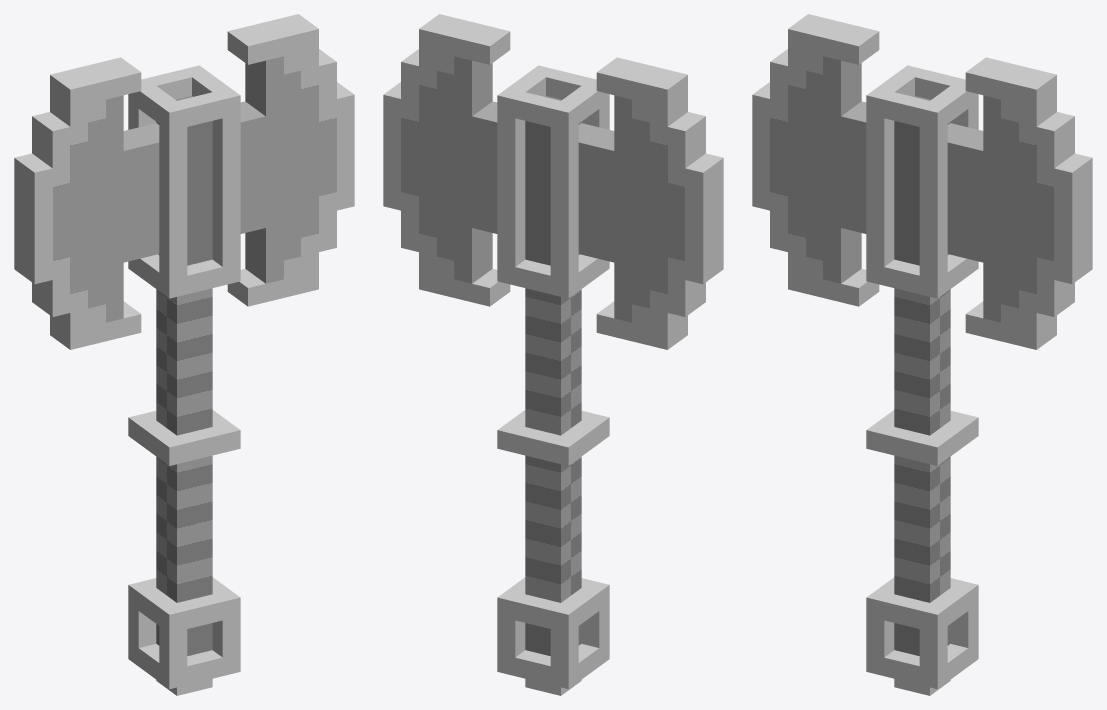
The model's file is BattleAxe.fbx.
3 renders of one model, left to right at view 1: azimuth 30°, elevation 25°; view 2: azimuth 150°, elevation 25°; view 3: azimuth 330°, elevation 25°, orthographic.
Visible parts, largest first — view 1: Matrix_5; view 2: Matrix_5; view 3: Matrix_5.
Boxes of the visible parts, box(x1,y1,x2,y2) form: Matrix_5: box(14, 14, 354, 695); Matrix_5: box(383, 14, 723, 695); Matrix_5: box(752, 14, 1092, 695).
Size of the model in its own units: 18 by 34 by 4.
1 material, 1 textured.
